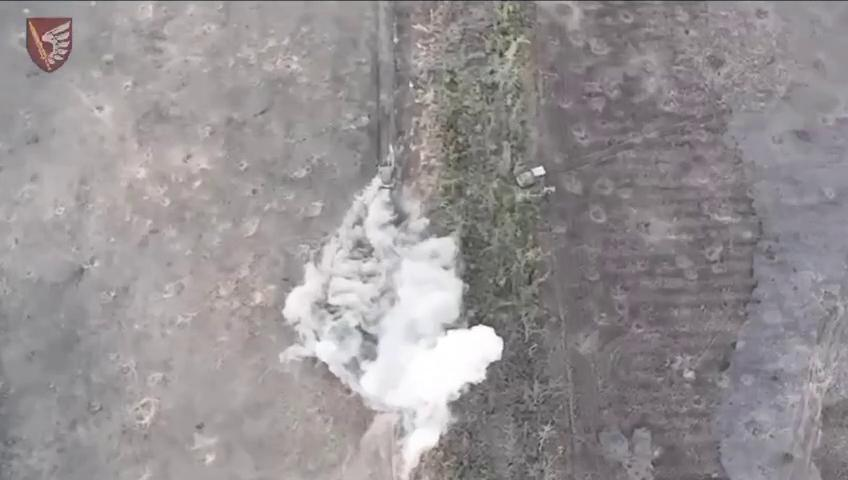tank: (513, 163, 548, 192), (374, 160, 400, 192)
